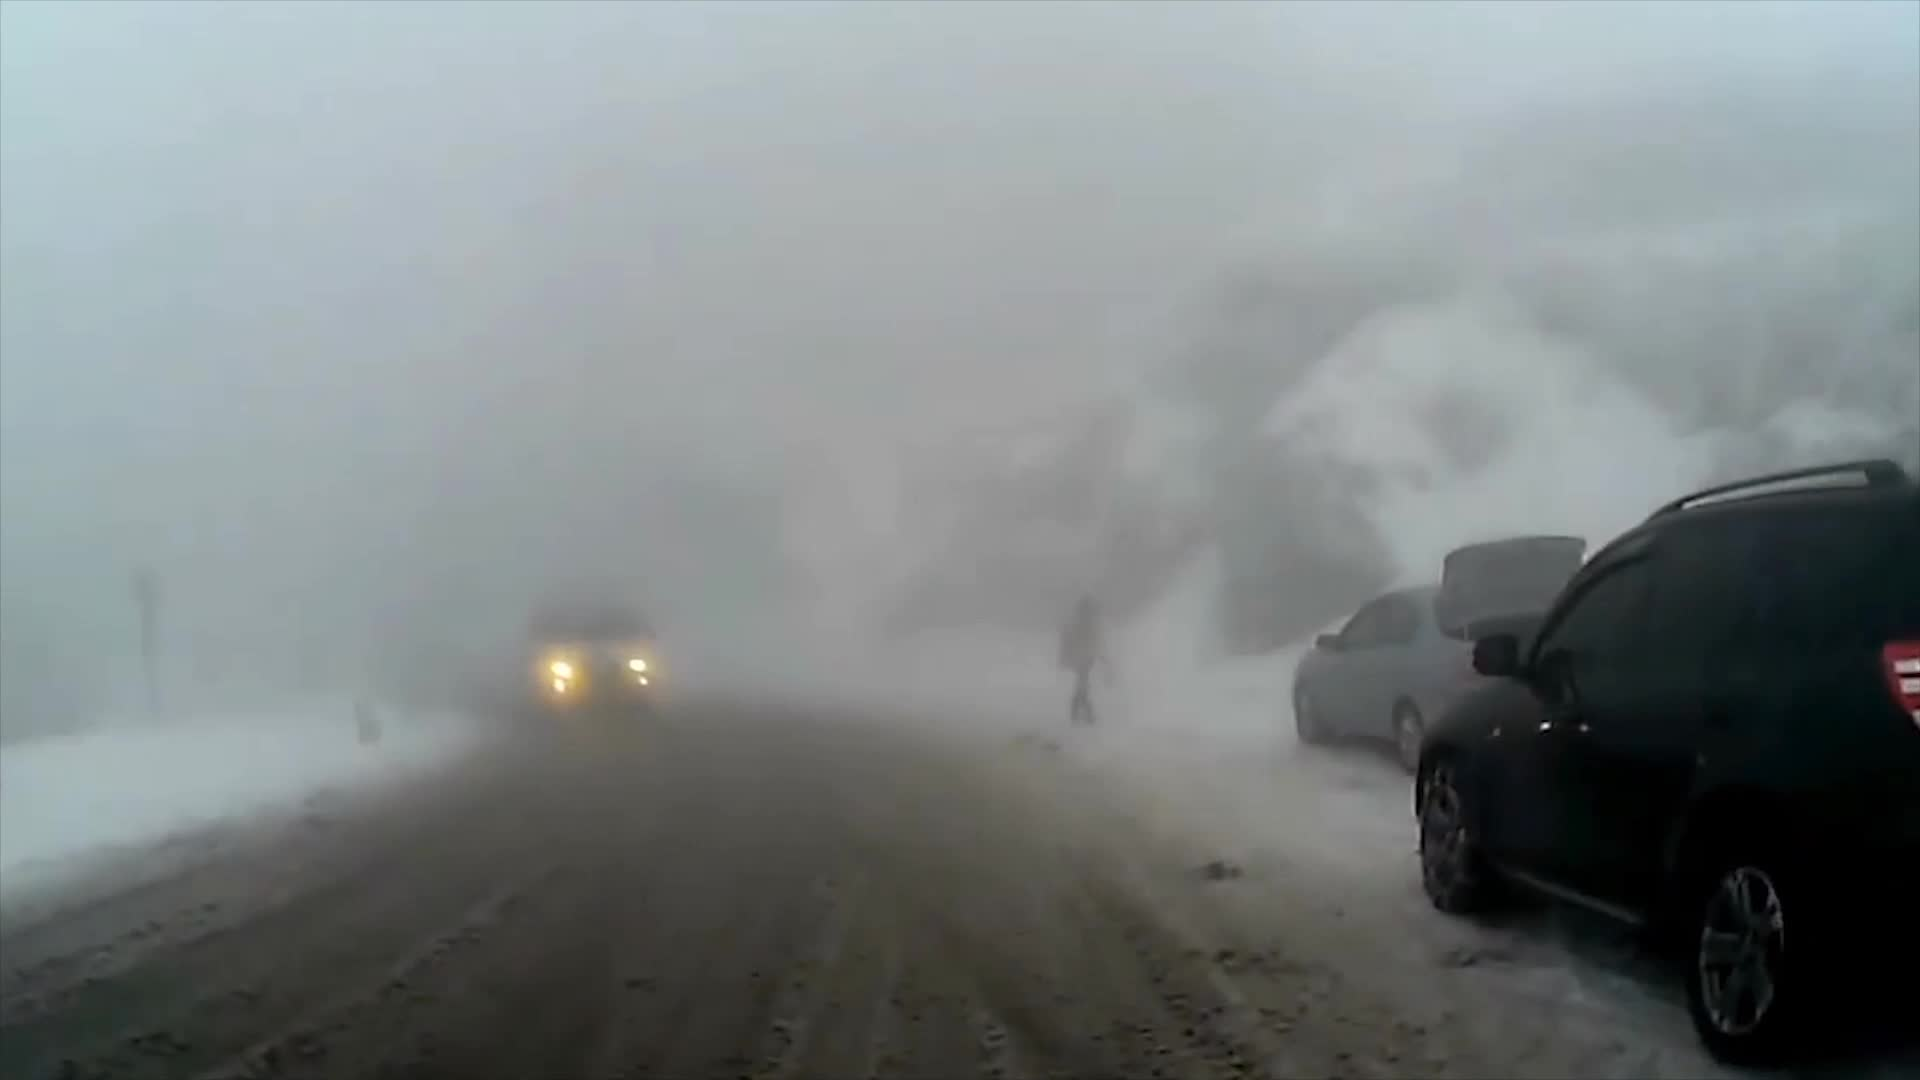pedestrian: (1060, 598, 1109, 724)
vehicle: (1411, 455, 1920, 1074), (1288, 535, 1636, 779), (523, 585, 662, 724)
